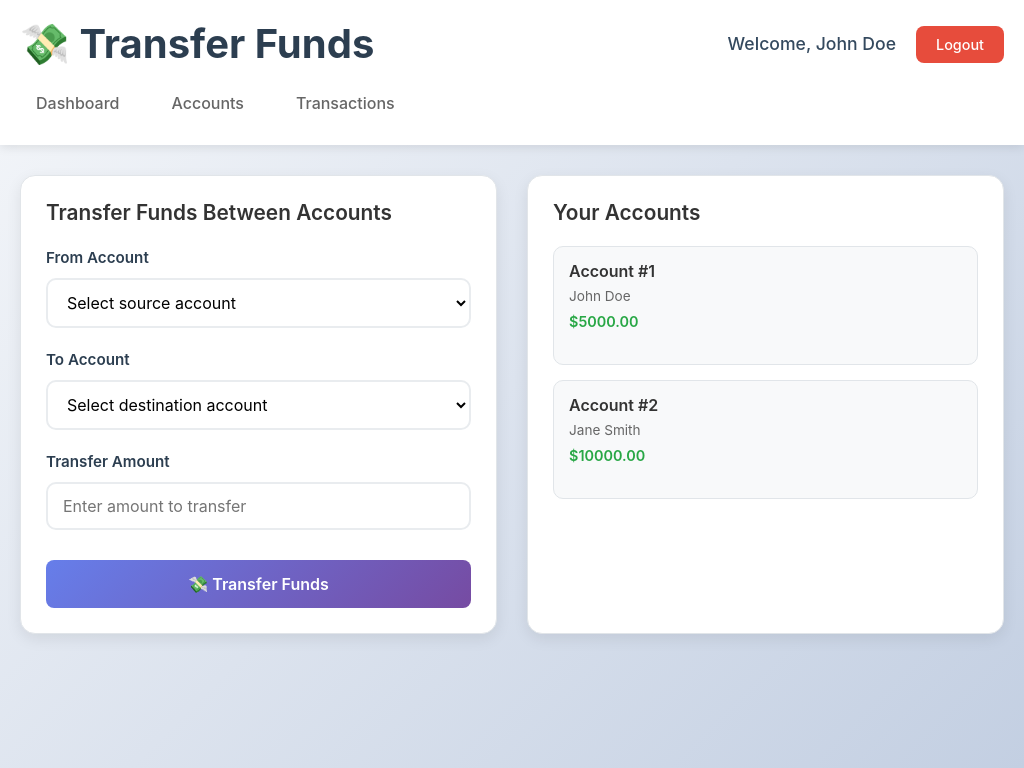
Test case: Transfer Component › shows error for transferring to same account
Select "Account #1 - John Doe ($5000.00)" in the dropdown labelled "From Account". click: (258, 303)
box: [46,278,471,328]
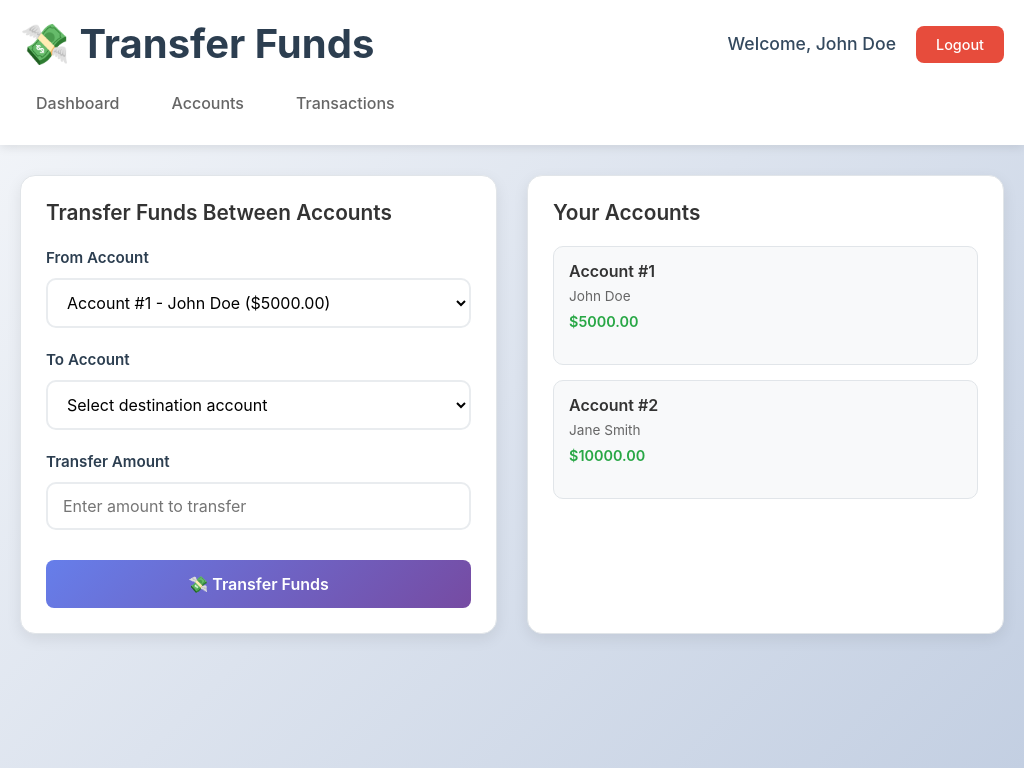
Select "Account #1 - John Doe ($5000.00)" in the dropdown labelled "To Account". click: (258, 405)
box: [46,380,471,430]
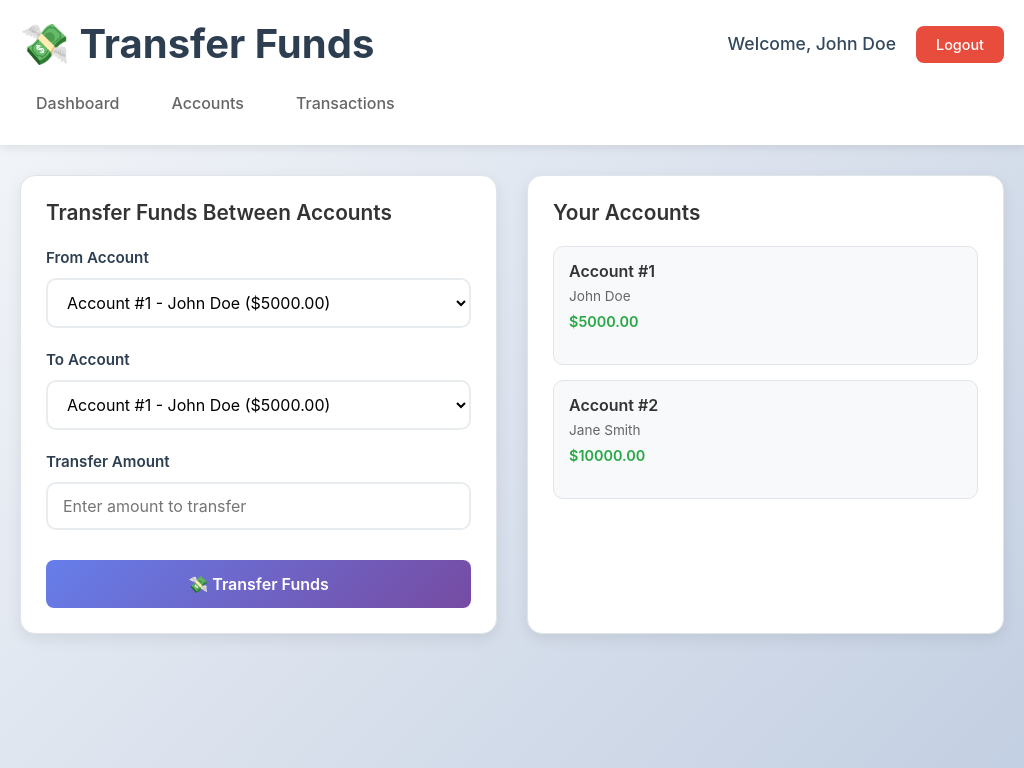
Type "1000" into the number field labelled "Transfer Amount". click: (258, 506)
box: [46,482,471,530]
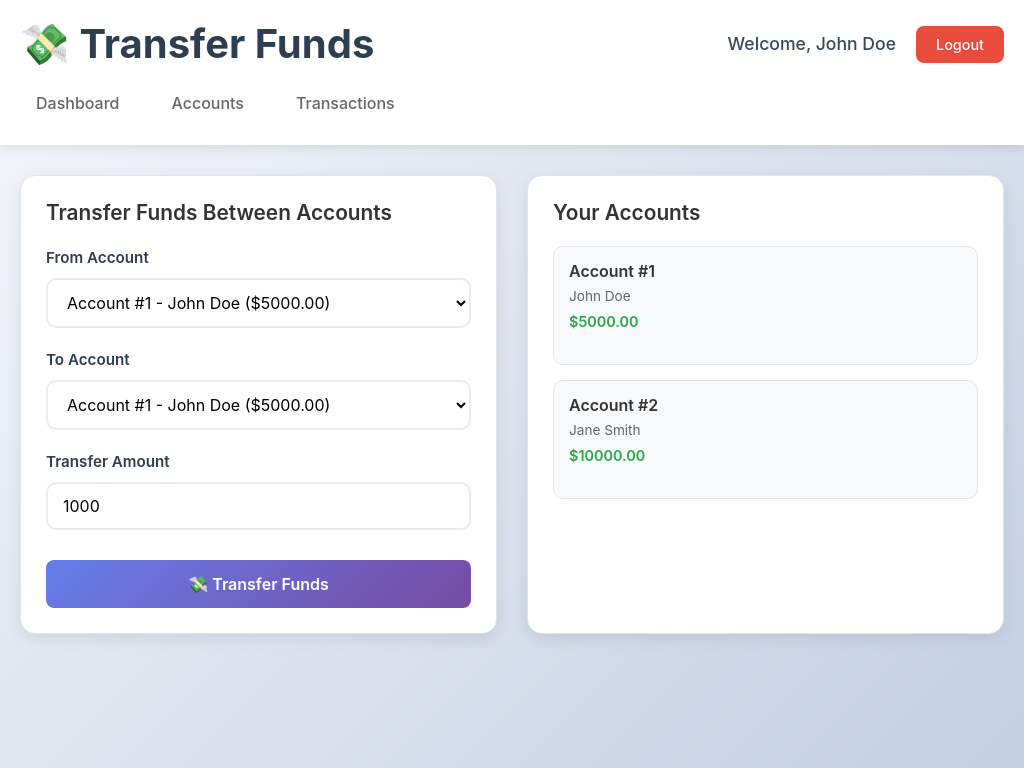
Click the button "💸 Transfer Funds". click: (258, 584)
box: [46,560,471,608]
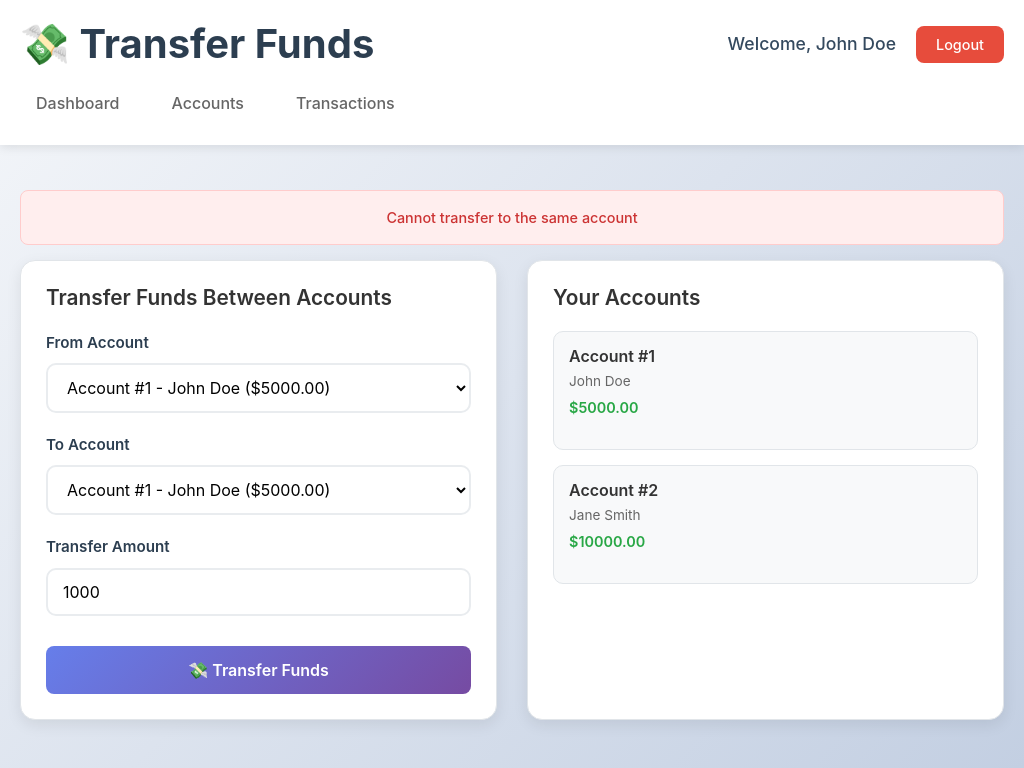
Expected: the text "Cannot transfer to the same account" is shown, [20,190,1004,245]
